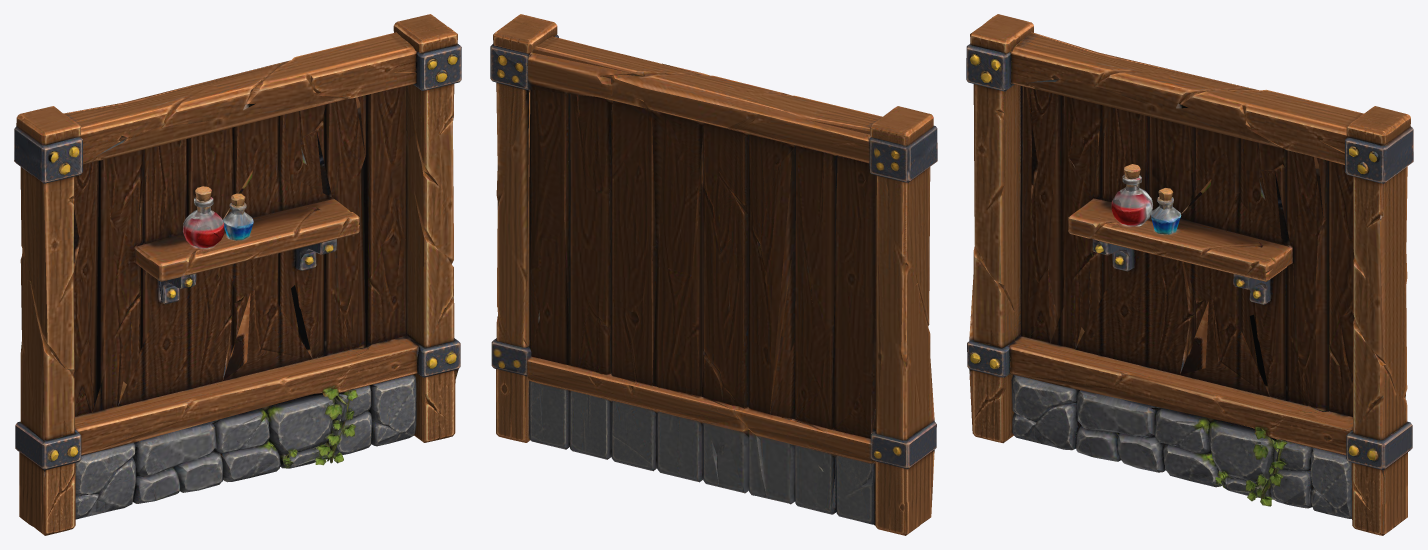
The model's file is wall_plain_1.glb.
The picture shows the model from 3 angles, left to right: view 1: azimuth 30°, elevation 25°; view 2: azimuth 150°, elevation 25°; view 3: azimuth 330°, elevation 25°; orthographic projection.
Parts seen in each view (by area): view 1: output_unwrapped; view 2: output_unwrapped; view 3: output_unwrapped.
Part boxes in pixels (x1,y1,x2,y2): output_unwrapped: (14, 14, 461, 535); output_unwrapped: (490, 14, 937, 535); output_unwrapped: (966, 14, 1413, 535).
Bounding box in the file's own units: 1.9 × 1.75 × 0.3037.
Materials: 1 (1 with a texture image).
